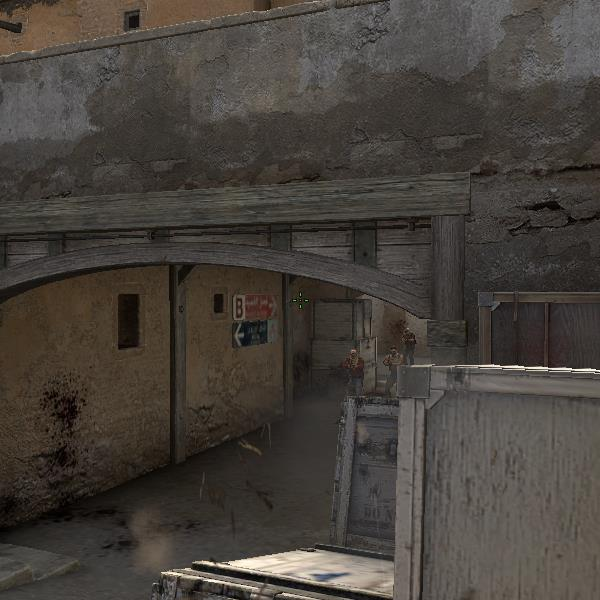t_body: (334, 347, 372, 397)
t_head: (346, 347, 360, 361)
